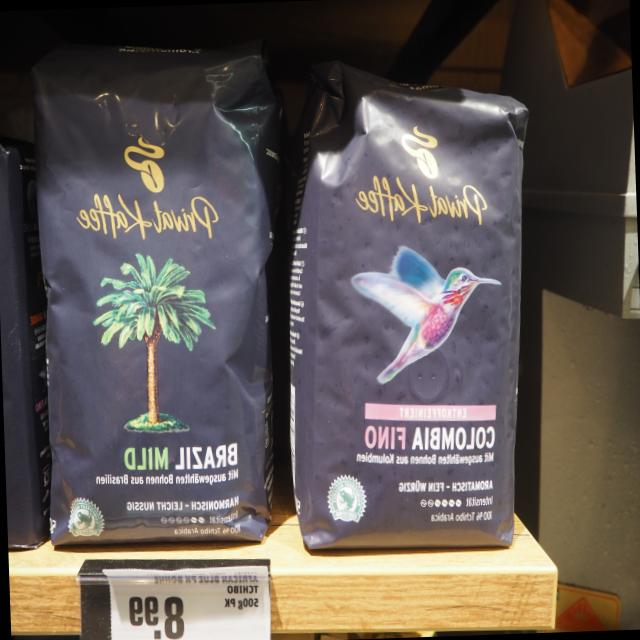BM Bohne: (23, 37, 287, 553)
C Fino Bohne: (284, 62, 529, 554)
